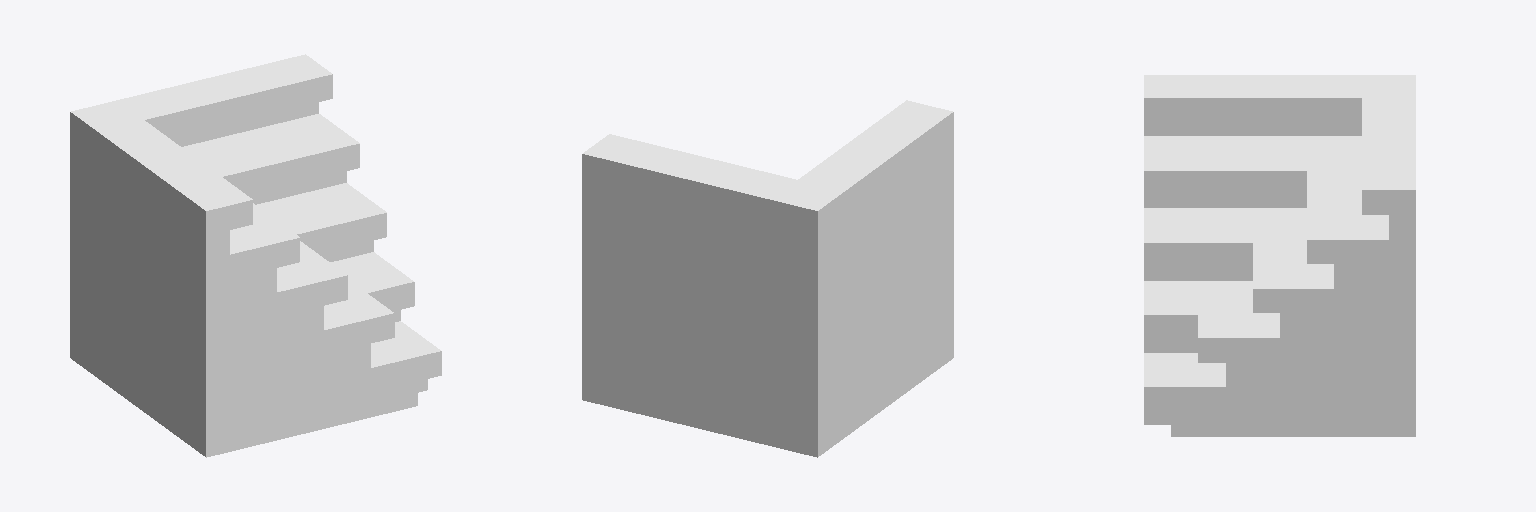
The model's file is wall_stairs_corner_in.obj.
3 renders of one model, left to right at view 1: azimuth 30°, elevation 25°; view 2: azimuth 150°, elevation 25°; view 3: azimuth 270°, elevation 25°, orthographic.
Parts seen in each view (by area): view 1: object 1; view 2: object 1; view 3: object 1.
Part boxes in pixels (x1,y1,x2,y2): object 1: (70,54,441,457); object 1: (582,100,953,457); object 1: (1144,75,1415,436).
Size of the model in its own units: 1 by 1 by 1.